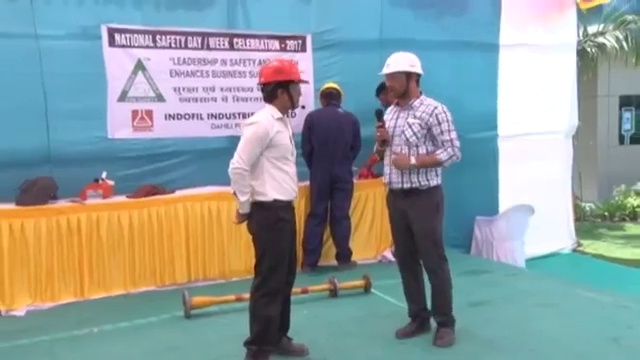helmet: (254, 57, 313, 86), (377, 51, 428, 78), (319, 81, 343, 98)
helmet_off: (371, 79, 399, 115)
helmet_on: (253, 56, 313, 121), (376, 50, 430, 109), (317, 80, 344, 111)
person: (225, 58, 313, 360), (374, 48, 461, 347), (302, 81, 362, 273)
